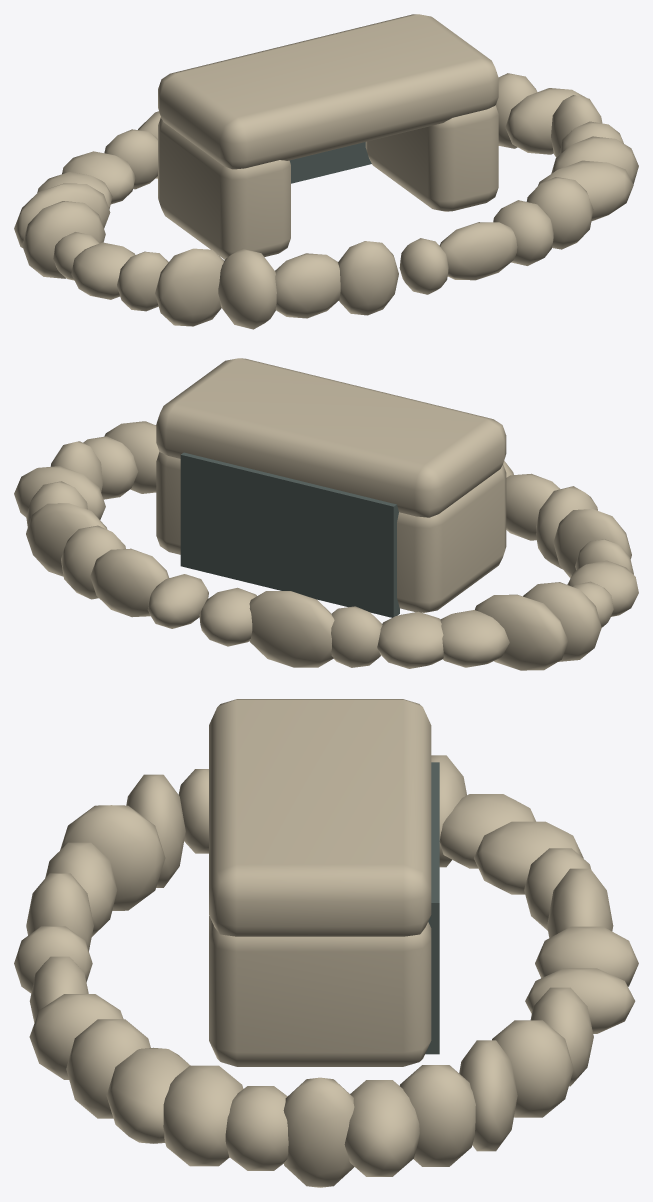
File: cave.glb
The picture shows the model from 3 angles, top to bottom: view 1: azimuth 30°, elevation 25°; view 2: azimuth 150°, elevation 25°; view 3: azimuth 270°, elevation 25°; orthographic projection. The views are drawn at different scales.
Visible parts, largest first — view 1: sandstone, steel; view 2: sandstone, steel; view 3: sandstone, steel.
Boxes of the visible parts, box(x1,y1,x2,y2) form: sandstone: box(14, 14, 638, 329); steel: box(289, 142, 371, 183); sandstone: box(14, 358, 638, 670); steel: box(180, 452, 399, 617); sandstone: box(14, 699, 638, 1187); steel: box(425, 762, 439, 1054).
Size of the model in its own units: 16.27 by 4.69 by 11.25.
